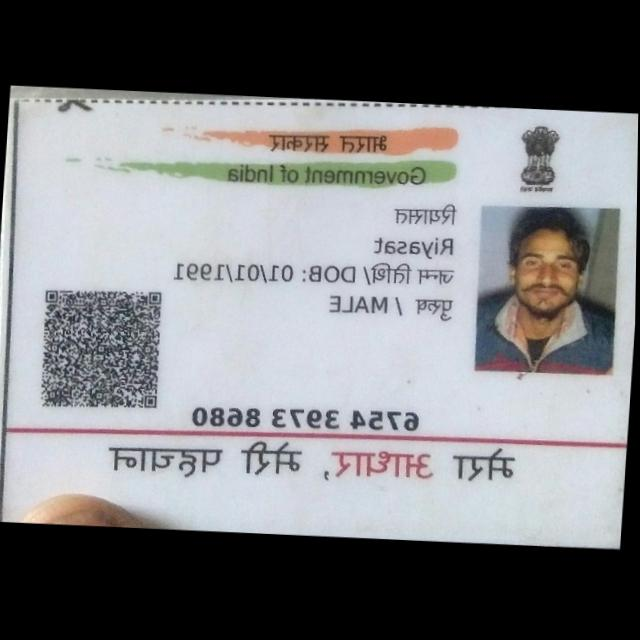aadhaar: (0, 81, 639, 518)
